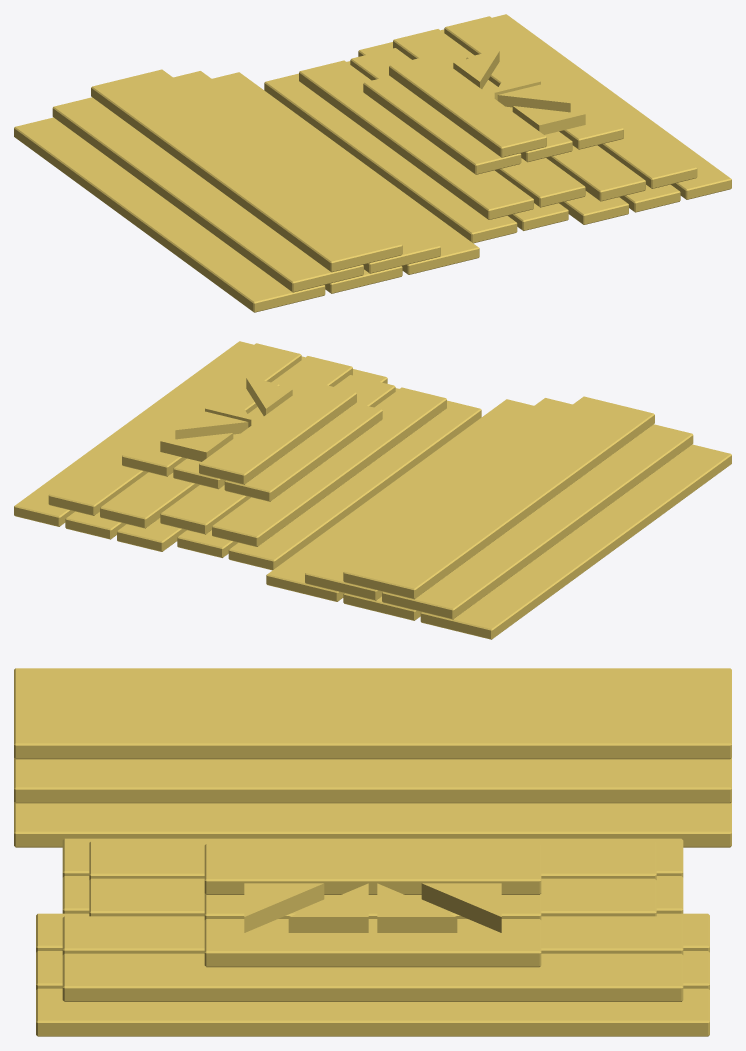
Rendered from table3.glb.
3 renders of one model, top to bottom at view 1: azimuth 30°, elevation 25°; view 2: azimuth 150°, elevation 25°; view 3: azimuth 270°, elevation 25°, orthographic. The views are drawn at different scales.
Visible parts, largest first — view 1: board1.06, board1.03, board1.04, board1.12, board4.01, board1.05, board1.01, board2.01, board4.02, board2.02, board4.03, board2.11 (+11 smaller); view 2: board1.06, board1.03, board1.04, board1.12, board4.01, board1.05, board1.01, board2.01, board4.02, board2.02, board4.03, board2.11 (+11 smaller); view 3: board1.06, board1.05, board1.01, board2.01, board2.11, board4.02, board3.03, board2.02, board1.12, board1.03, board1.04, board1.11 (+10 smaller).
Part boxes in pixels (<box>): board1.06: <box>91,69,402,272</box>; board1.03: <box>14,117,325,312</box>; board1.04: <box>52,97,363,292</box>; board1.12: <box>299,60,533,219</box>; board4.01: <box>264,73,517,243</box>; board1.05: <box>173,71,440,273</box>; board1.01: <box>212,72,479,274</box>; board2.01: <box>444,16,697,188</box>; board4.02: <box>389,54,546,157</box>; board2.02: <box>393,29,645,201</box>; board4.03: <box>363,76,521,174</box>; board2.11: <box>492,14,731,199</box>; board1.06: <box>343,396,654,599</box>; board1.03: <box>420,444,731,639</box>; board1.04: <box>382,424,693,619</box>; board1.12: <box>212,387,446,546</box>; board4.01: <box>228,400,481,570</box>; board1.05: <box>305,398,572,600</box>; board1.01: <box>266,399,533,601</box>; board2.01: <box>48,343,301,515</box>; board4.02: <box>199,381,356,484</box>; board2.02: <box>100,356,352,528</box>; board4.03: <box>224,403,382,501</box>; board2.11: <box>14,341,253,526</box>; board1.06: <box>14,692,731,759</box>; board1.05: <box>14,758,731,803</box>; board1.01: <box>14,802,731,847</box>; board2.01: <box>62,953,683,1001</box>; board2.11: <box>36,988,709,1036</box>; board4.02: <box>204,846,541,894</box>; board3.03: <box>204,919,541,967</box>; board2.02: <box>62,916,683,954</box>; board1.12: <box>89,841,656,879</box>; board1.03: <box>14,668,731,681</box>; board1.04: <box>14,680,731,693</box>; board1.11: <box>89,878,656,916</box>.
Bounding box in the file's own units: 0.945 × 0.08 × 0.81.
